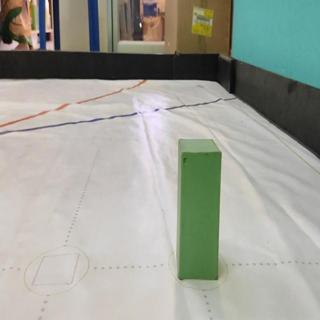greenbox: (177, 136, 221, 280)
